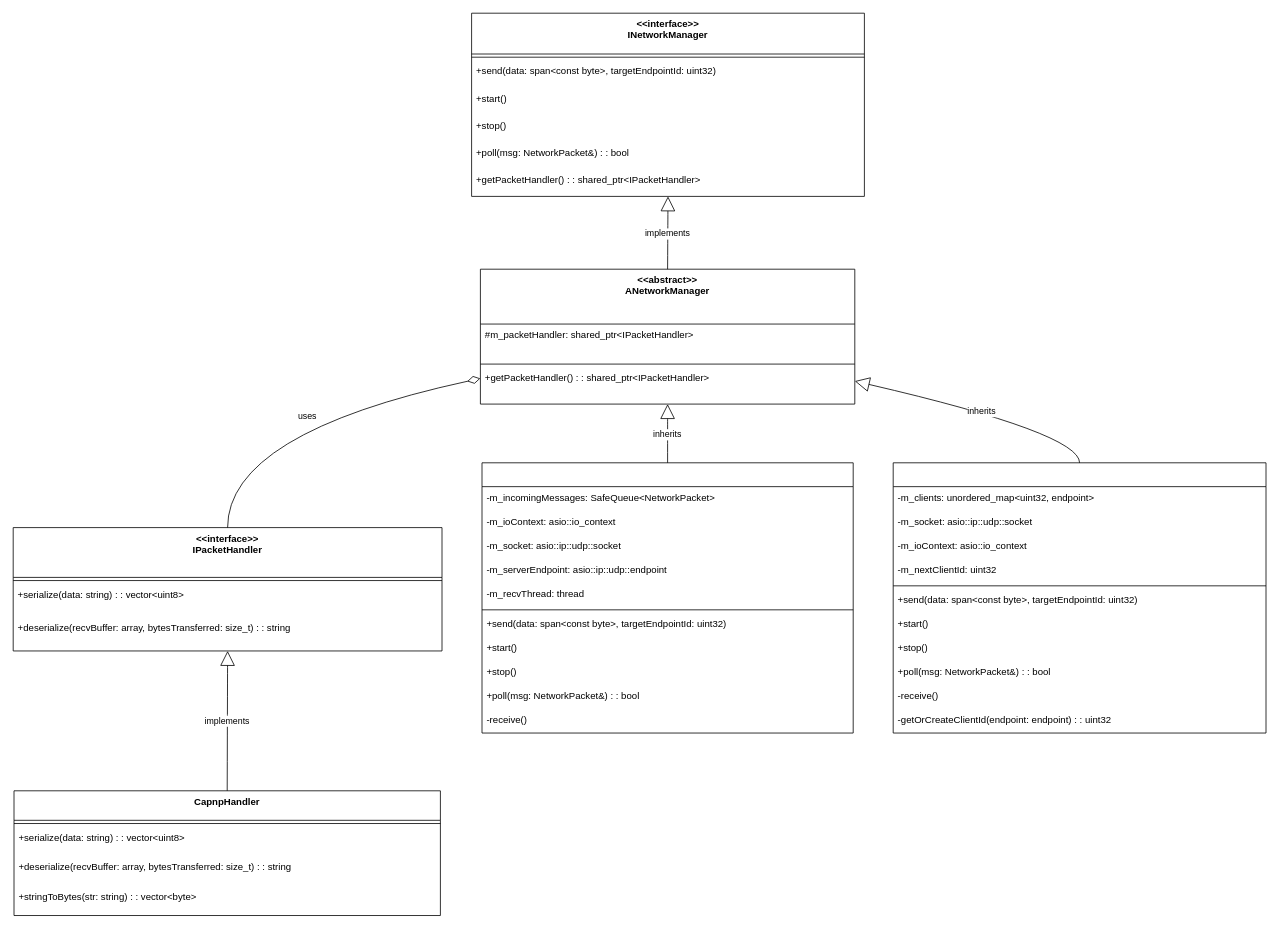
The diagram is 1279 pixels wide and 929 high, and some of its shapes have lost their labels. Each missing label, with the box of its shape:
AsioClient: (481, 462, 853, 733)
AsioServer: (892, 462, 1266, 733)
